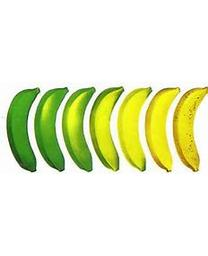banana: (6, 85, 207, 174)
